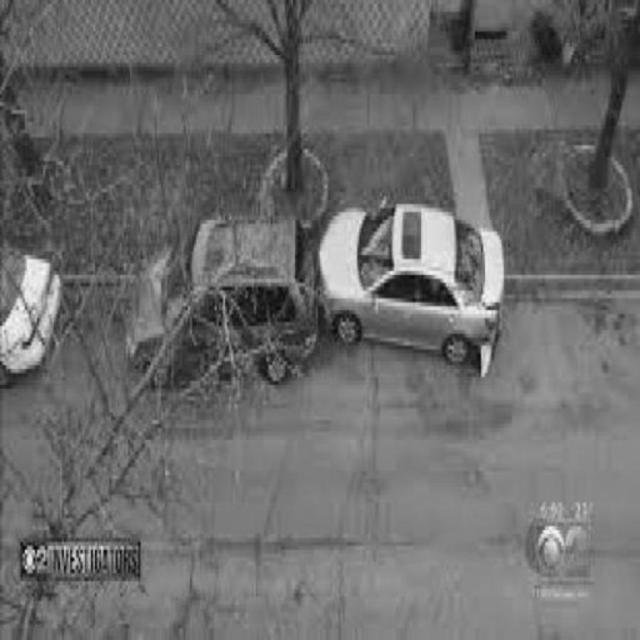accident: (130, 207, 504, 384)
vehicle: (2, 249, 63, 383)
